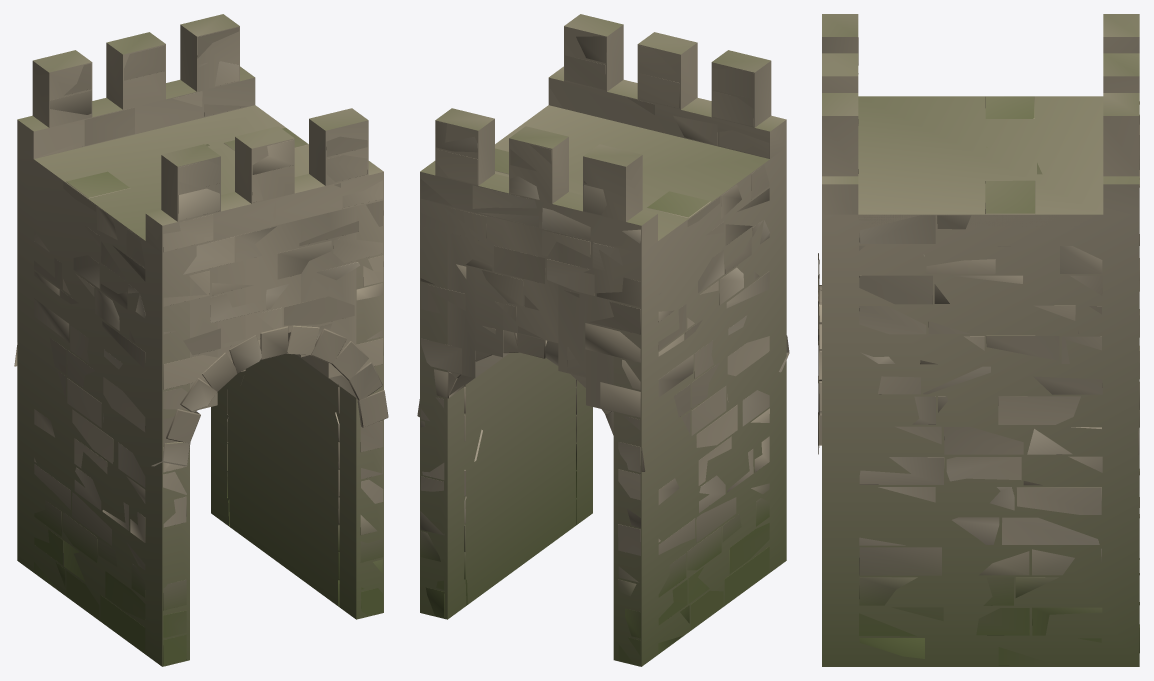
The model's file is citadel_postern.glb.
The picture shows the model from 3 angles, left to right: view 1: azimuth 30°, elevation 25°; view 2: azimuth 150°, elevation 25°; view 3: azimuth 270°, elevation 25°; orthographic projection. The views are drawn at different scales.
Visible parts, largest first — view 1: citadel_postern_far, citadel_postern; view 2: citadel_postern_far, citadel_postern; view 3: citadel_postern_far, citadel_postern.
Part boxes in pixels (left/top/right/bottom): citadel_postern_far: left=17, top=14, right=383, bottom=666; citadel_postern: left=14, top=27, right=388, bottom=665; citadel_postern_far: left=420, top=14, right=786, bottom=666; citadel_postern: left=417, top=36, right=789, bottom=663; citadel_postern_far: left=822, top=14, right=1139, bottom=666; citadel_postern: left=818, top=37, right=1139, bottom=665.
Size of the model in its own units: 19.04 by 39.6 by 21.27.
